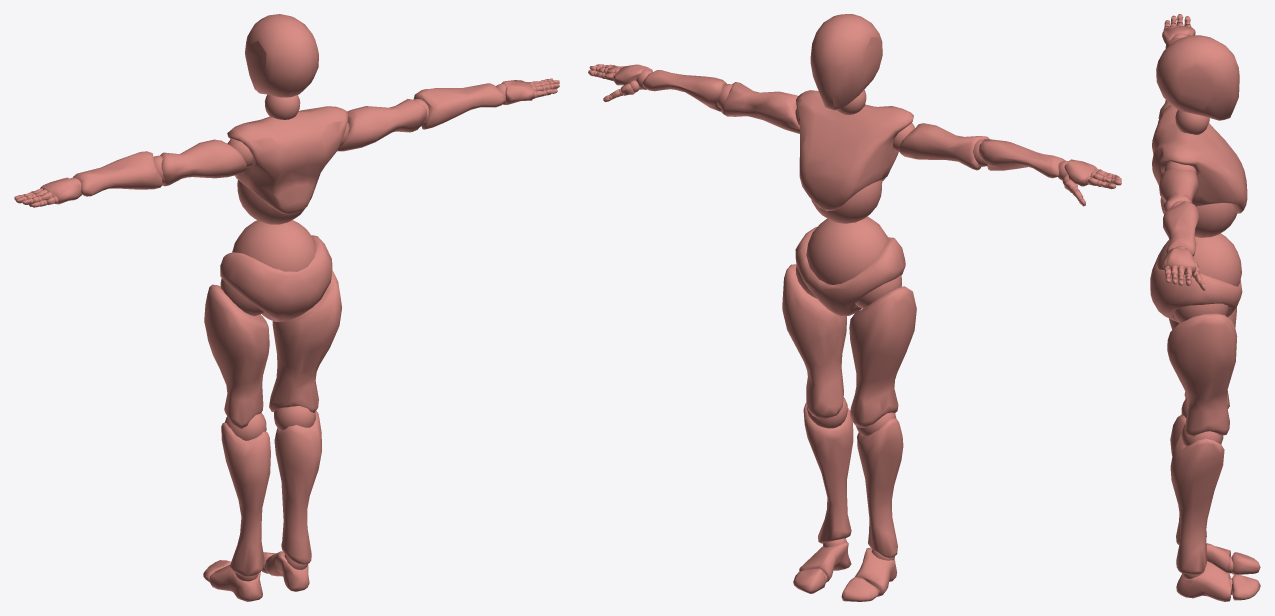
File: xbot_noanimation.fbx
3 views of the same model, side by side, from view 1: azimuth 30°, elevation 25°; view 2: azimuth 150°, elevation 25°; view 3: azimuth 270°, elevation 25° (orthographic). The views are drawn at different scales.
Visible parts, largest first — view 1: Beta_Surface; view 2: Beta_Surface; view 3: Beta_Surface.
Boxes of the visible parts, bbox=[...] form: Beta_Surface: bbox=[14, 14, 559, 601]; Beta_Surface: bbox=[588, 14, 1121, 601]; Beta_Surface: bbox=[1150, 14, 1260, 601].
Bounding box in the file's own units: 176 × 176 × 32.01.
